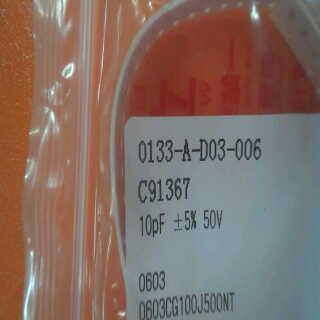10pF: (132, 208, 169, 238)
